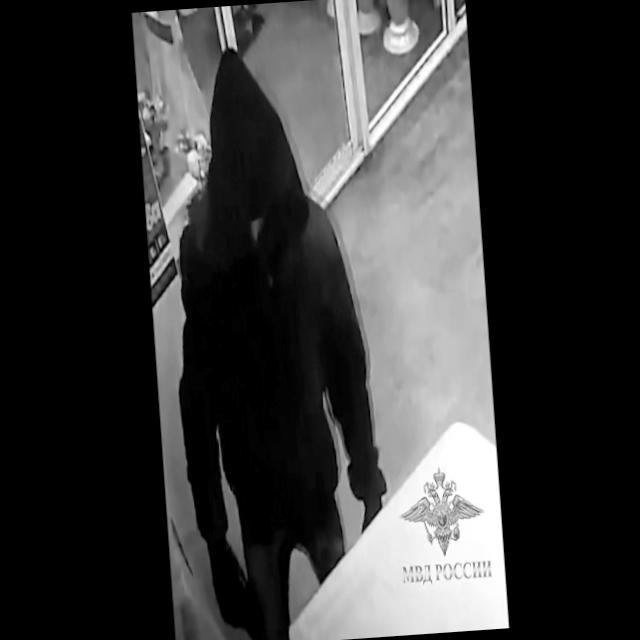gun: (212, 549, 266, 640)
person with a gun: (156, 36, 397, 640)
